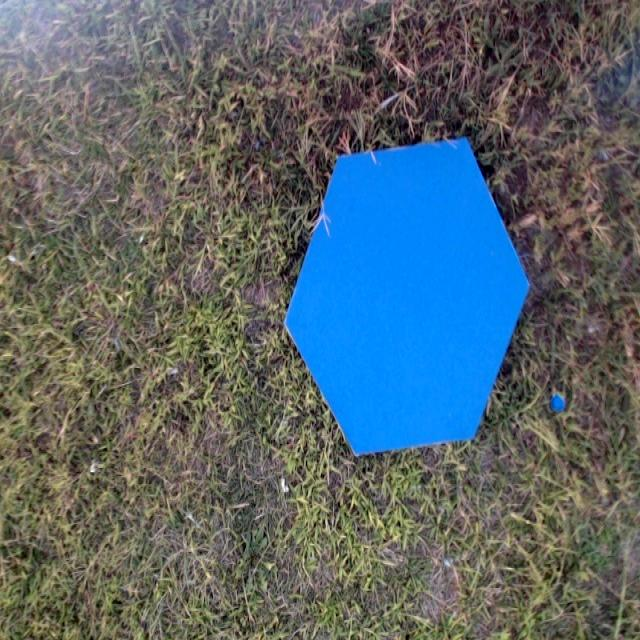blue_hexagon: (284, 135, 532, 459)
